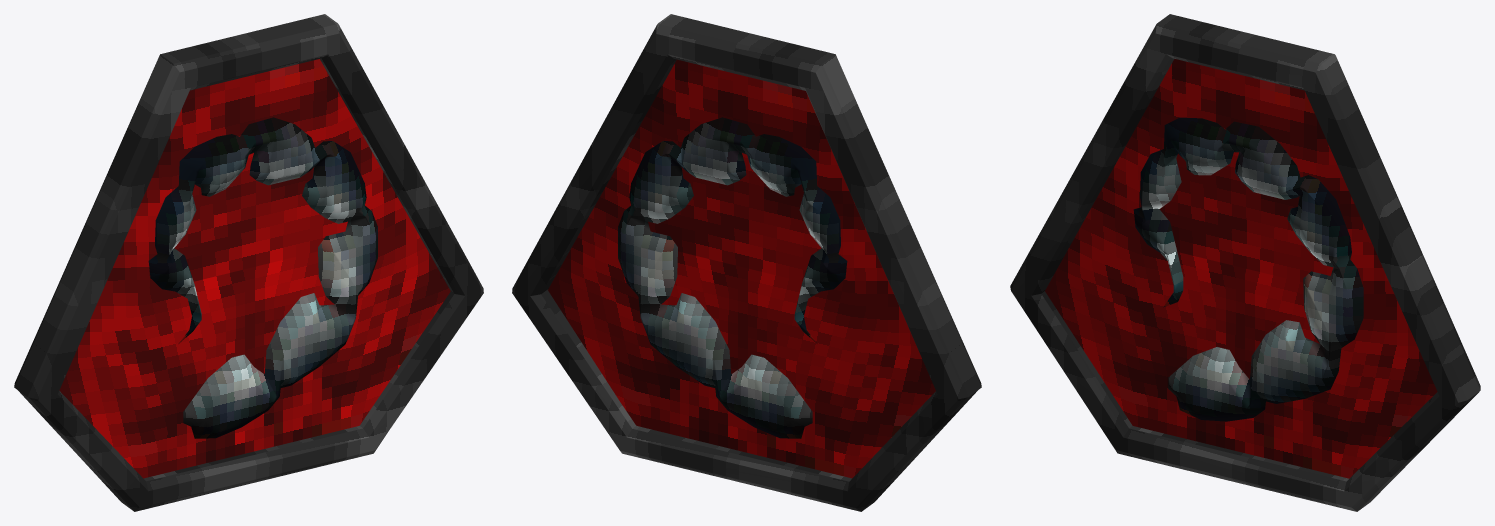
Rendered from nod.fbx.
3 views of the same model, side by side, from view 1: azimuth 30°, elevation 25°; view 2: azimuth 150°, elevation 25°; view 3: azimuth 330°, elevation 25° (orthographic).
Visible parts, largest first — view 1: BRF_LOGO_NOD; view 2: BRF_LOGO_NOD; view 3: BRF_LOGO_NOD.
Part boxes in pixels (x1=…): BRF_LOGO_NOD: x1=14, y1=14, x2=483, y2=511; BRF_LOGO_NOD: x1=512, y1=14, x2=981, y2=511; BRF_LOGO_NOD: x1=1010, y1=14, x2=1480, y2=511.
Size of the model in its own units: 515 by 473 by 46.
3 materials, 3 textured.
